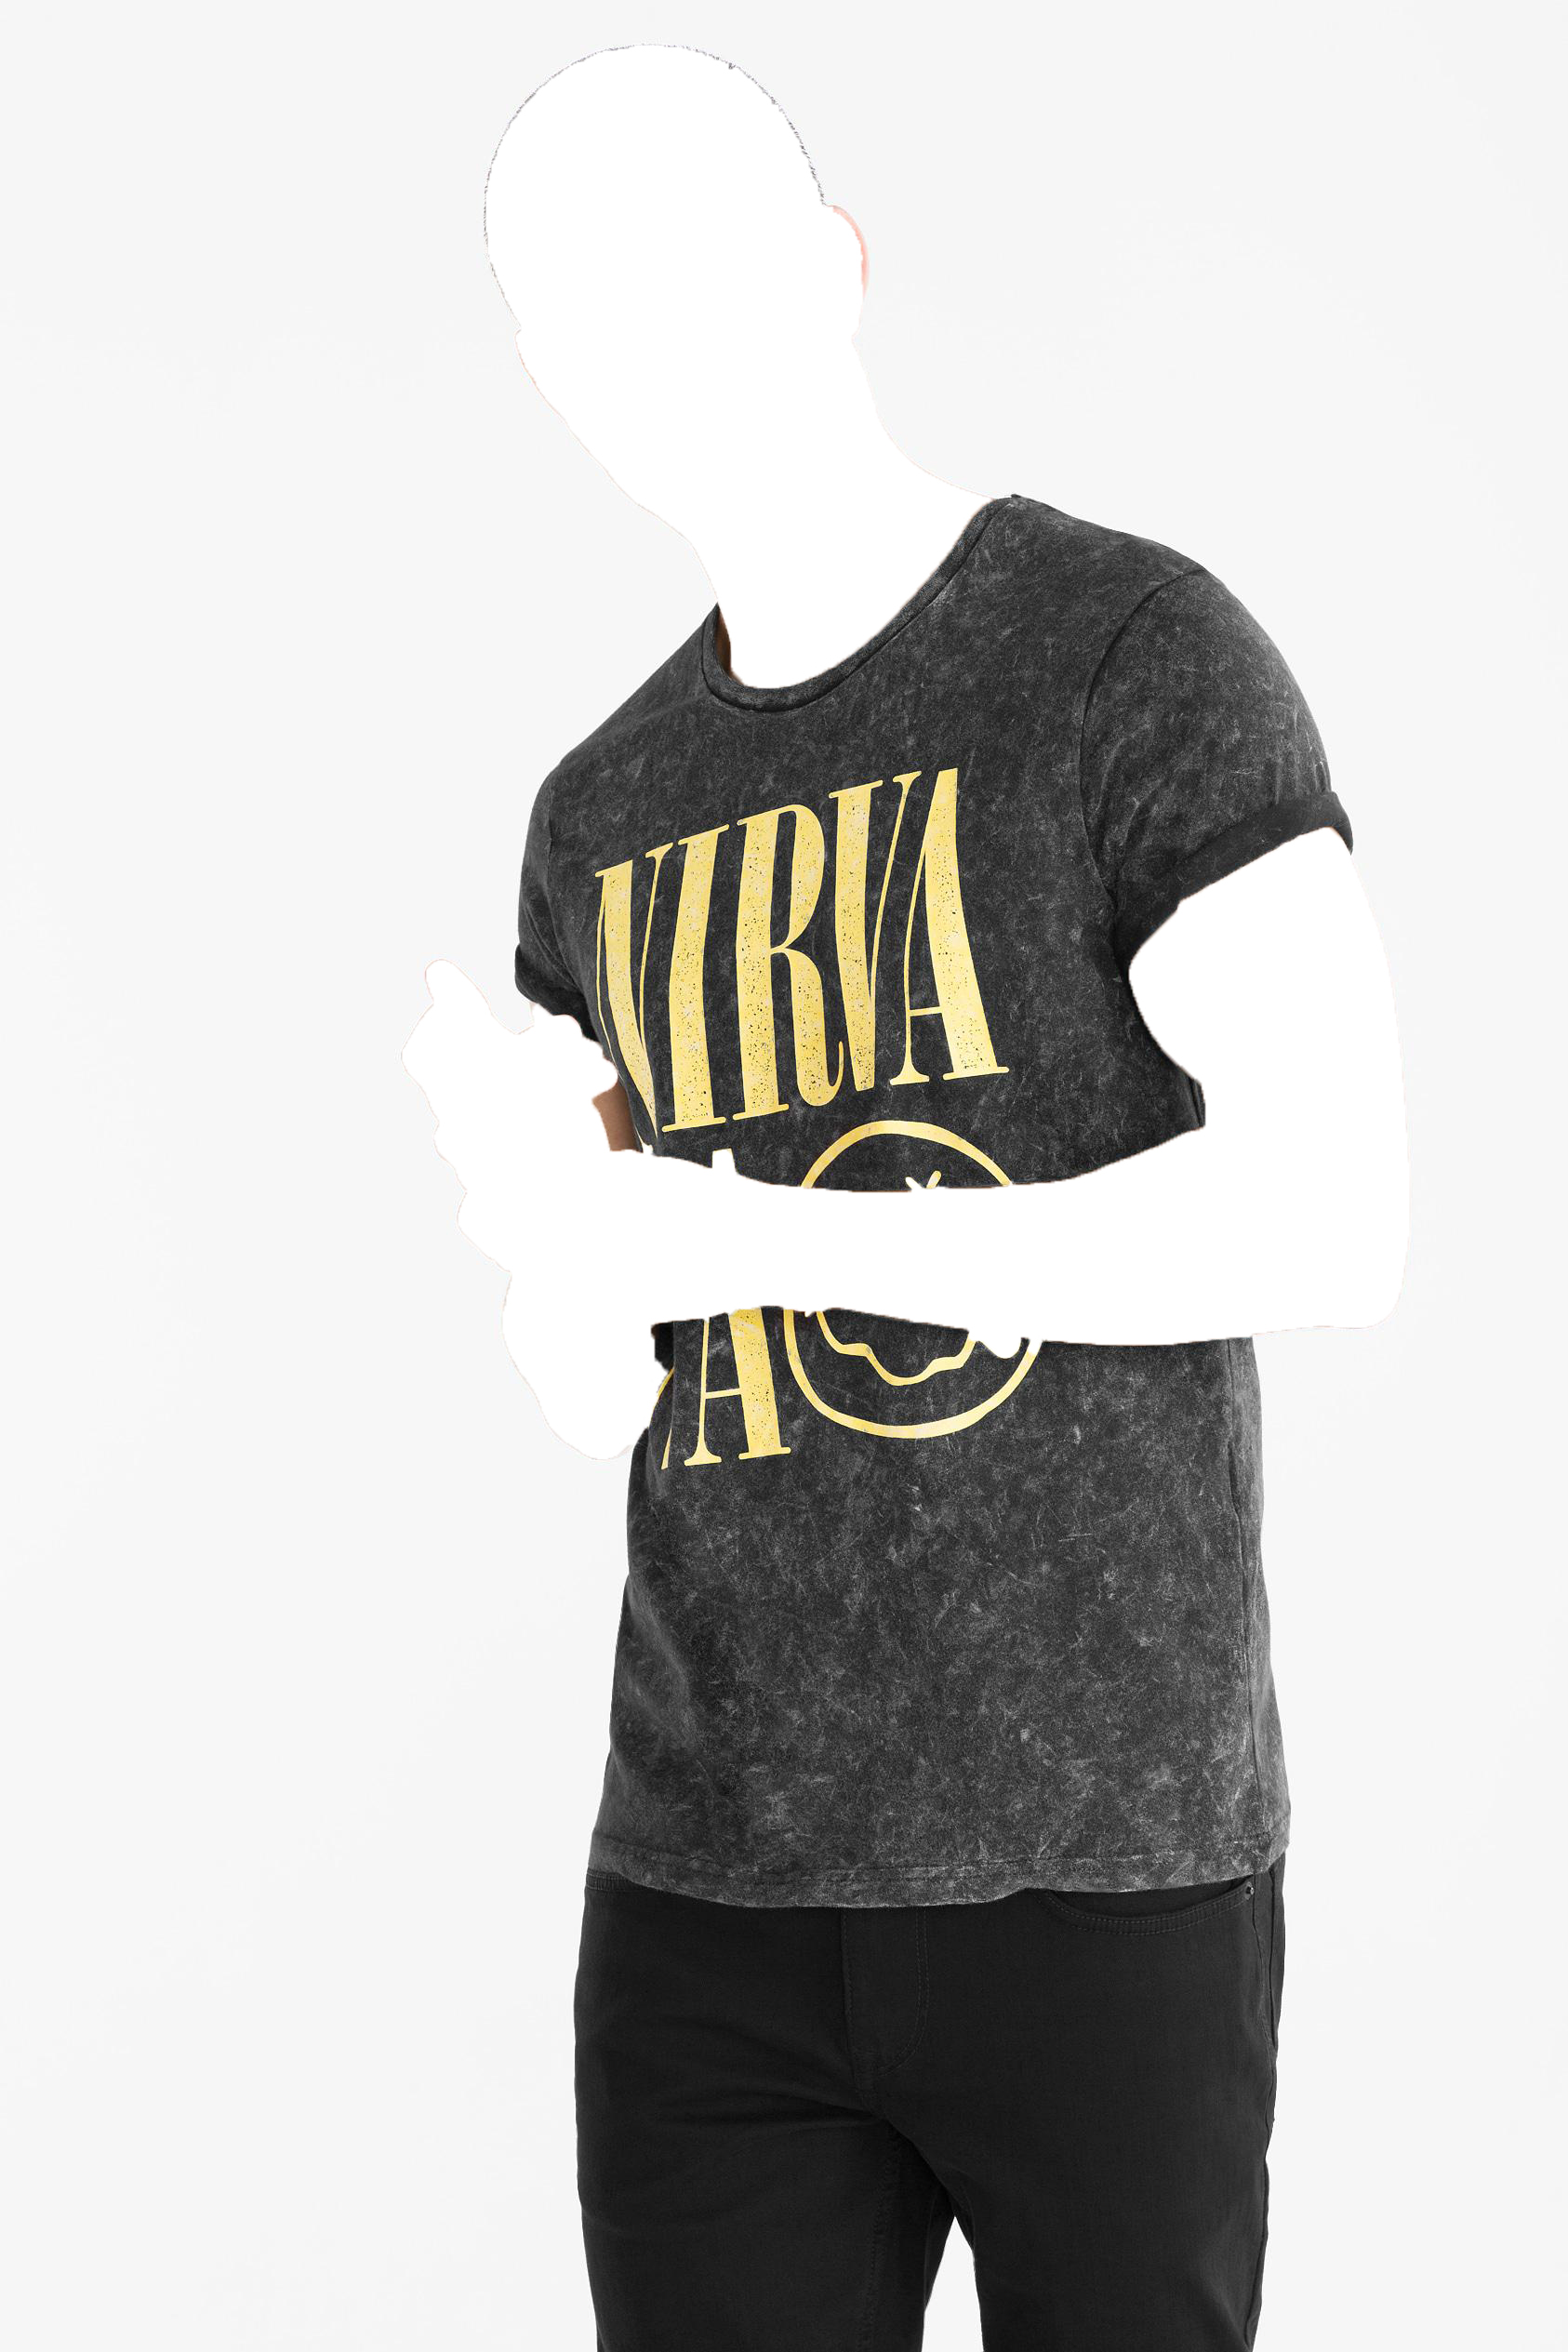teeshirt: (478, 490, 1433, 1909)
